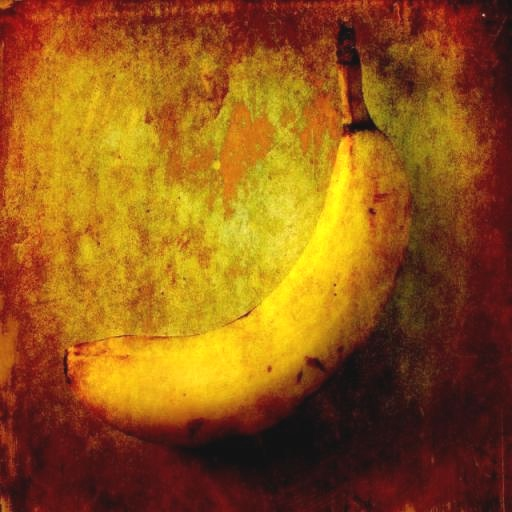fruit: (65, 27, 409, 444)
